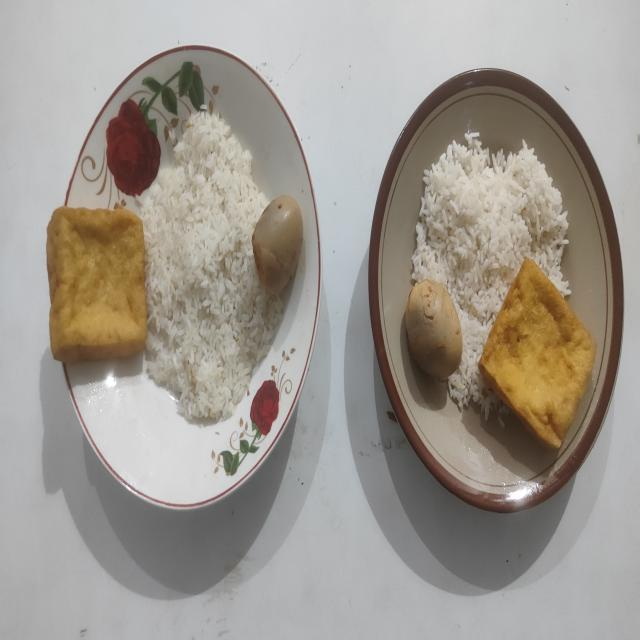nasi_putih: (412, 133, 570, 419), (140, 111, 284, 420)
tahu_goreng: (478, 258, 596, 448), (47, 206, 147, 362)
